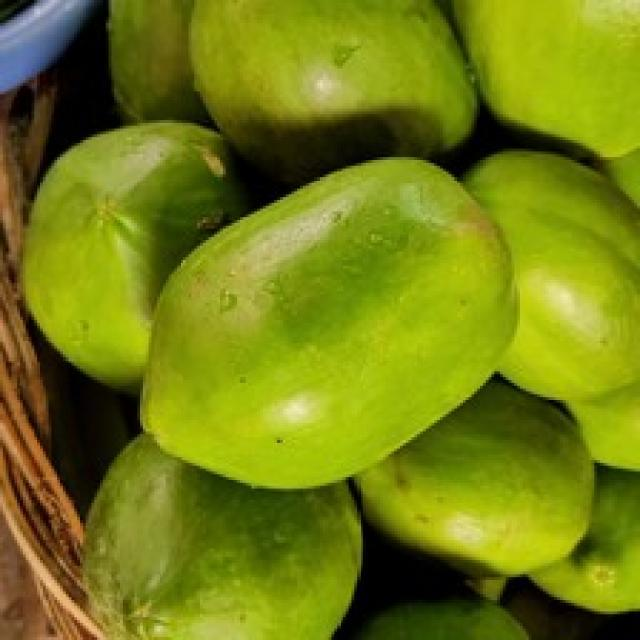Pepaya unrippen: (139, 160, 531, 478)
